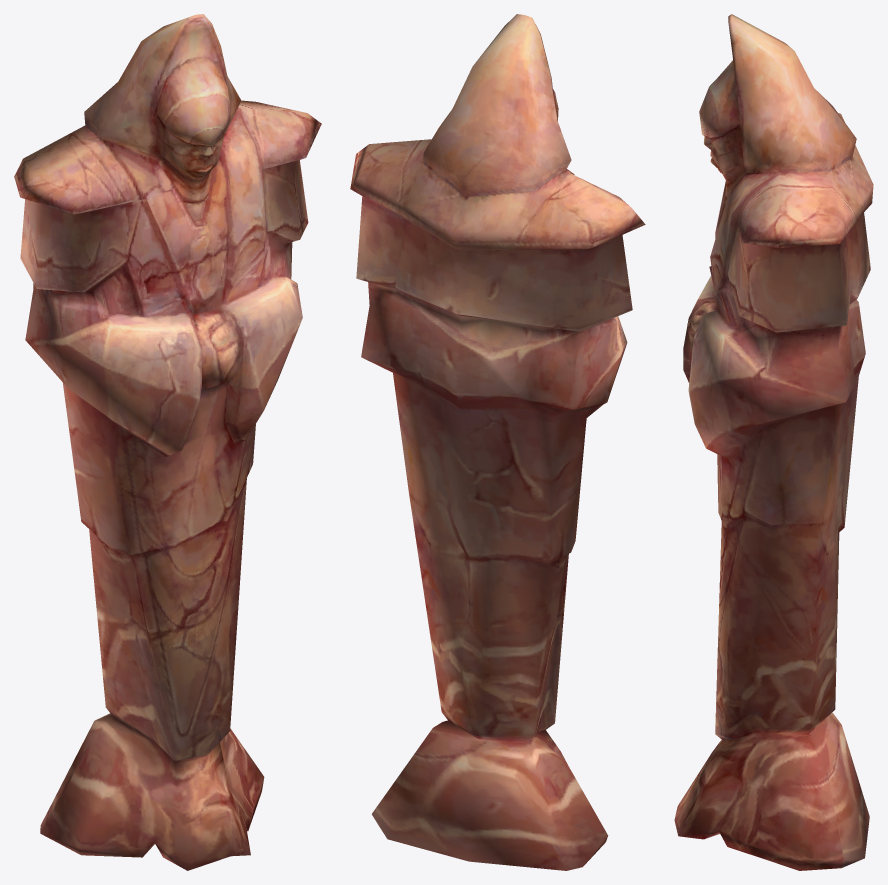
File: kor_tomb_item_statue_01.glb
3 views of the same model, side by side, from view 1: azimuth 30°, elevation 25°; view 2: azimuth 150°, elevation 25°; view 3: azimuth 270°, elevation 25° (orthographic). The views are drawn at different scales.
Visible parts, largest first — view 1: kor_tomb_item_statue_01; view 2: kor_tomb_item_statue_01; view 3: kor_tomb_item_statue_01.
Part boxes in pixels (x1,y1,x2,y2): kor_tomb_item_statue_01: [14, 14, 321, 870]; kor_tomb_item_statue_01: [350, 14, 645, 870]; kor_tomb_item_statue_01: [674, 14, 873, 870].
Bounding box in the file's own units: 0.5958 × 1.56 × 0.3493.
1 material, 1 textured.
